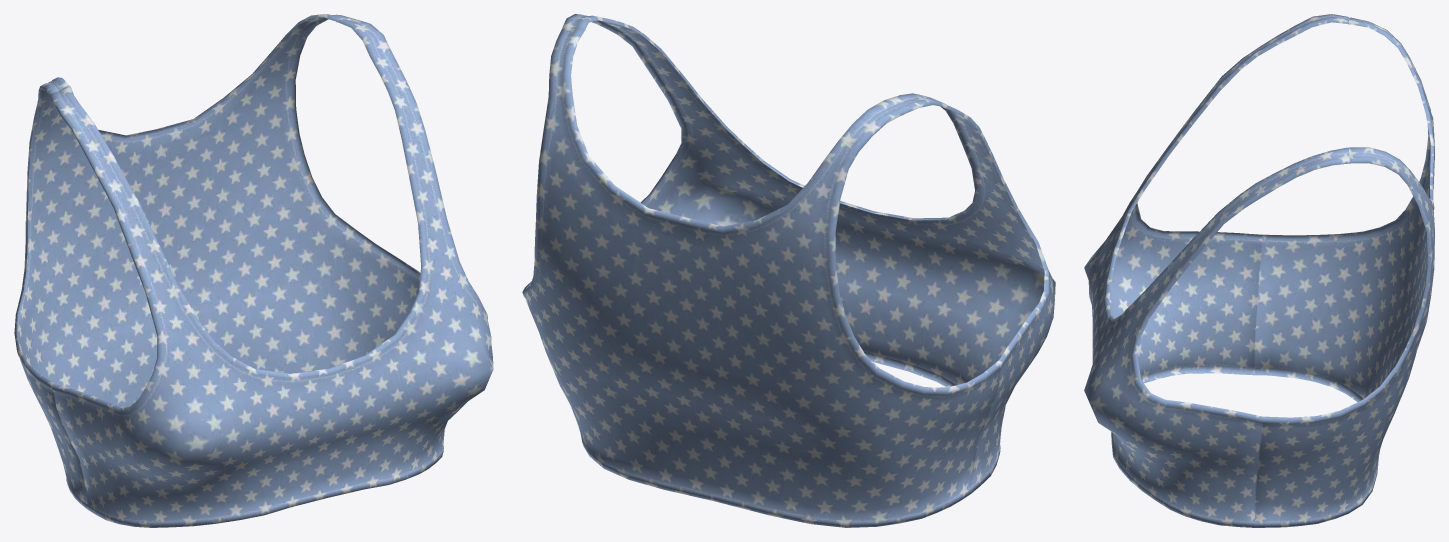
File: wolgade-female-top-01.glb
3 views of the same model, side by side, from view 1: azimuth 30°, elevation 25°; view 2: azimuth 150°, elevation 25°; view 3: azimuth 270°, elevation 25° (orthographic). The views are drawn at different scales.
Visible parts, largest first — view 1: Human.wolgade_female_top_01; view 2: Human.wolgade_female_top_01; view 3: Human.wolgade_female_top_01.
Boxes of the visible parts, bbox=[...] form: Human.wolgade_female_top_01: bbox=[14, 14, 493, 527]; Human.wolgade_female_top_01: bbox=[522, 14, 1055, 527]; Human.wolgade_female_top_01: bbox=[1084, 14, 1434, 527].
Bounding box in the file's own units: 0.2905 × 0.2713 × 0.2331.
Materials: 1 (1 with a texture image).
